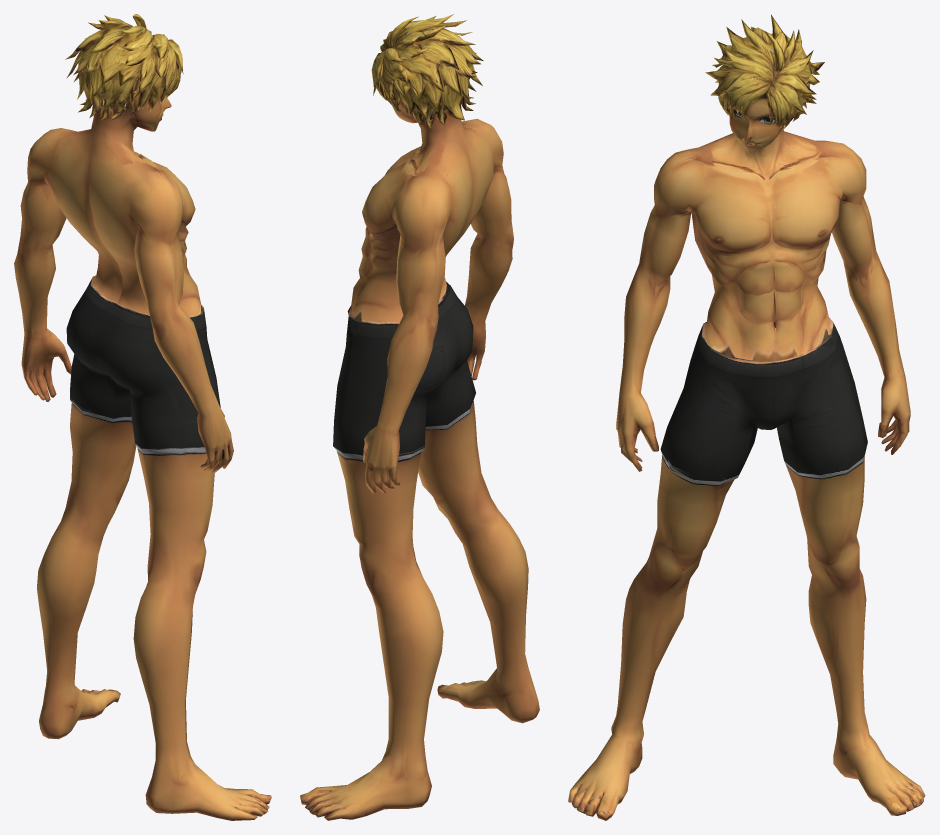
File: 04_Loiro.glb
3 views of the same model, side by side, from view 1: azimuth 30°, elevation 25°; view 2: azimuth 150°, elevation 25°; view 3: azimuth 270°, elevation 25° (orthographic). The views are drawn at different scales.
Visible parts, largest first — view 1: tripo_node_919d1ae6-7fd0-4a3d-96e5-7e11f369f50e; view 2: tripo_node_919d1ae6-7fd0-4a3d-96e5-7e11f369f50e; view 3: tripo_node_919d1ae6-7fd0-4a3d-96e5-7e11f369f50e.
Part boxes in pixels (<box>): tripo_node_919d1ae6-7fd0-4a3d-96e5-7e11f369f50e: <box>14,14,271,820</box>; tripo_node_919d1ae6-7fd0-4a3d-96e5-7e11f369f50e: <box>300,14,539,820</box>; tripo_node_919d1ae6-7fd0-4a3d-96e5-7e11f369f50e: <box>568,14,925,820</box>.
Size of the model in its own units: 0.1777 by 0.998 by 0.4238.
Materials: 1 (1 with a texture image).
